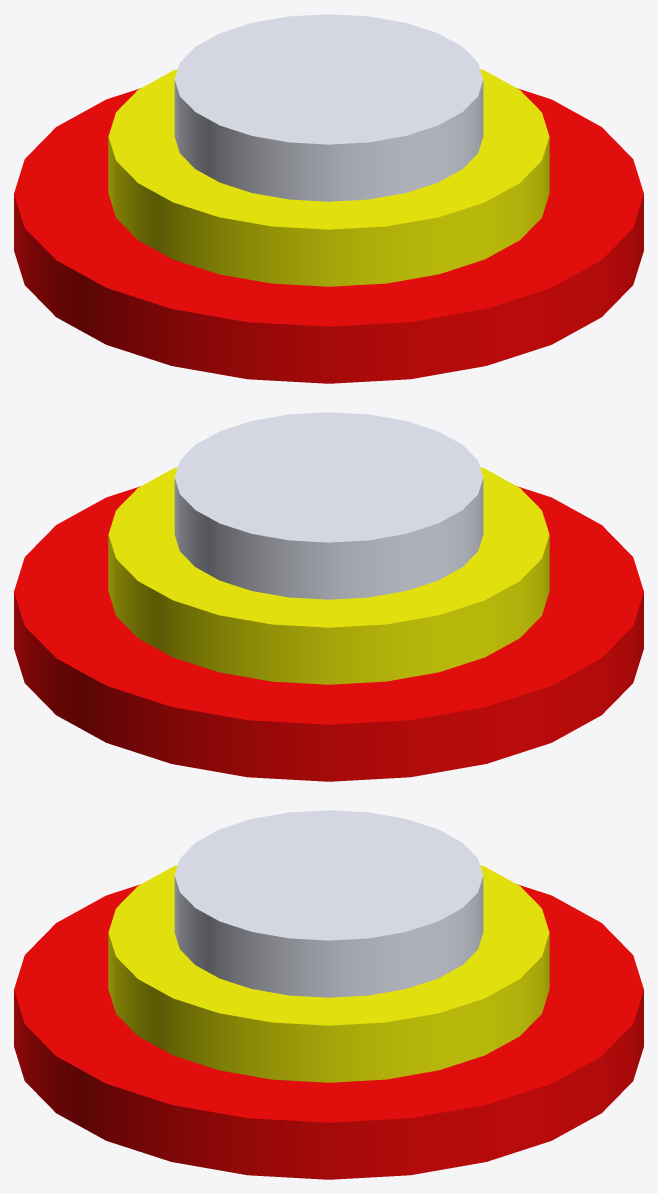
The model's file is Target.fbx.
3 views of the same model, one above another, from view 1: azimuth 30°, elevation 25°; view 2: azimuth 150°, elevation 25°; view 3: azimuth 270°, elevation 25° (orthographic).
Visible parts, largest first — view 1: cylinder (×3); view 2: cylinder (×3); view 3: cylinder (×3).
Part boxes in pixels (x1,y1,x2,y2): cylinder (×3): (14,14,643,383); cylinder (×3): (14,412,643,781); cylinder (×3): (14,810,643,1179).
Bounding box in the file's own units: 10 × 3 × 10.
